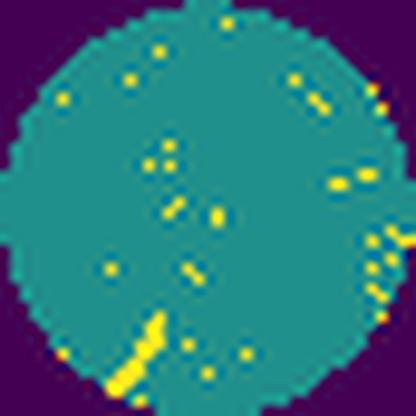Scratch: (100, 303, 172, 403)
